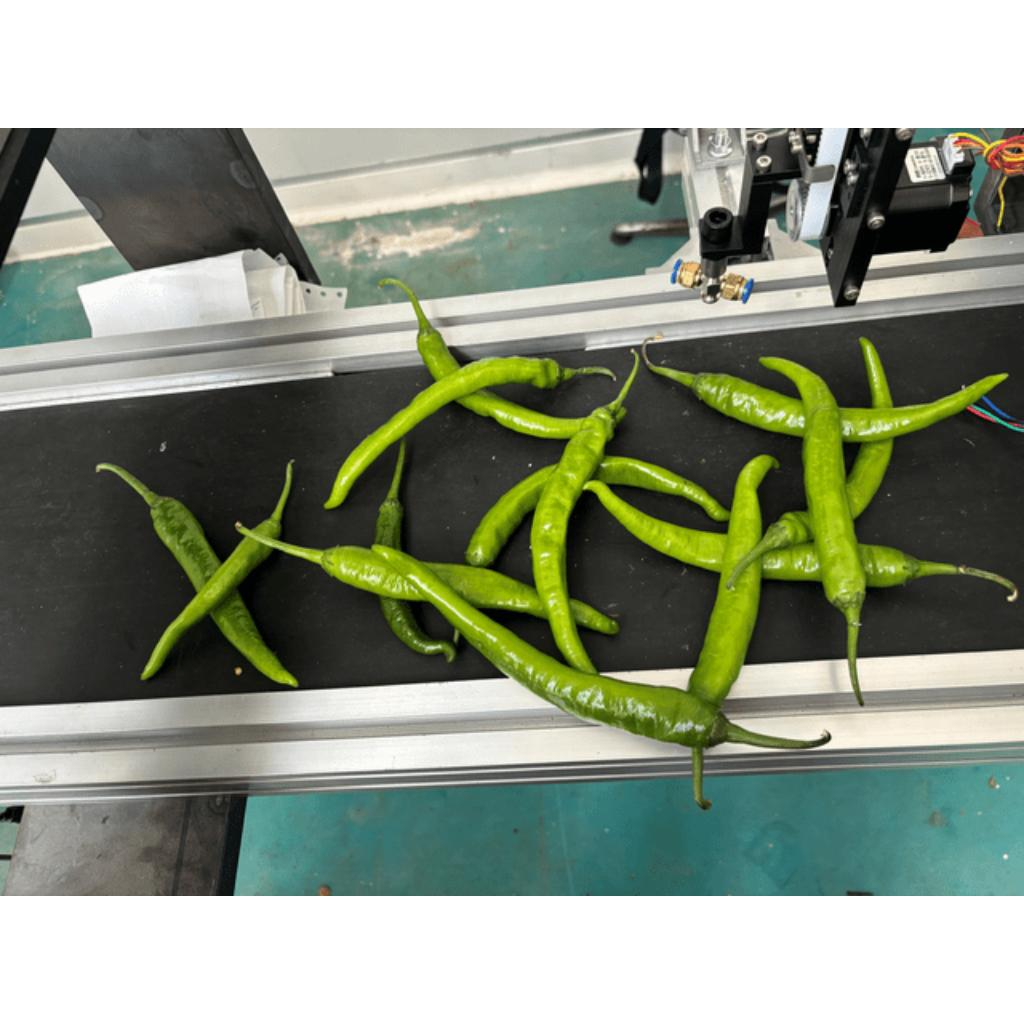chili: (366, 540, 731, 751), (318, 351, 568, 513), (578, 479, 924, 591), (746, 355, 866, 615), (759, 333, 897, 550), (462, 456, 731, 567), (150, 493, 300, 691), (320, 543, 619, 639), (684, 451, 785, 711), (525, 403, 620, 679), (688, 370, 1013, 444), (139, 518, 280, 681), (415, 319, 589, 440), (373, 496, 460, 668)
